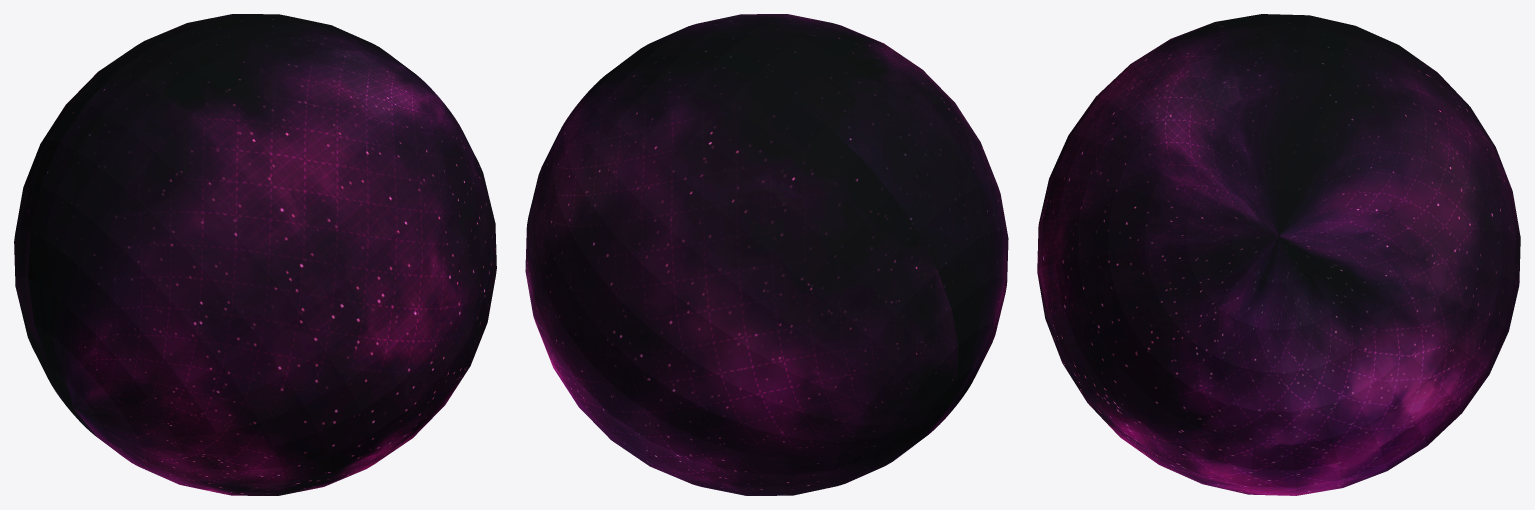
File: tub.glb
The picture shows the model from 3 angles, left to right: view 1: azimuth 30°, elevation 25°; view 2: azimuth 150°, elevation 25°; view 3: azimuth 270°, elevation 25°; orthographic projection.
Visible parts, largest first — view 1: Sphere_1; view 2: Sphere_1; view 3: Sphere_1.
Boxes of the visible parts, bbox=[...] form: Sphere_1: bbox=[14, 14, 496, 495]; Sphere_1: bbox=[525, 14, 1008, 495]; Sphere_1: bbox=[1037, 14, 1520, 495].
Size of the model in its own units: 4857 by 4852 by 4862.
2 materials, 2 textured.
